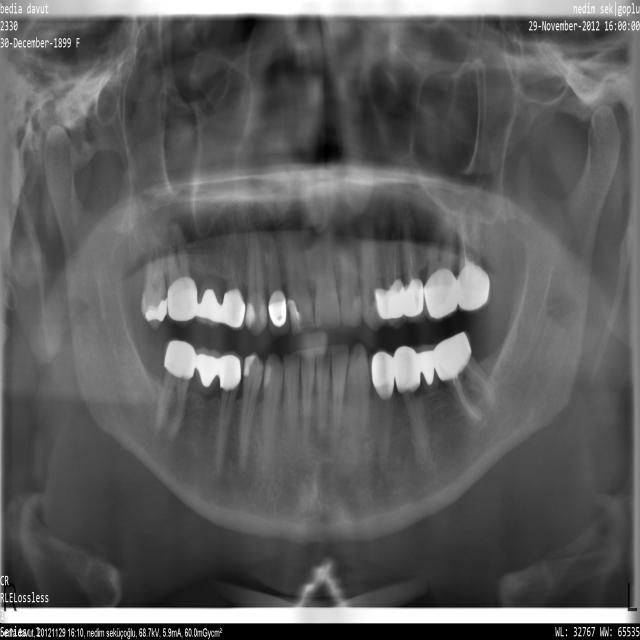Canine: (336, 345, 370, 475), (360, 220, 386, 329), (245, 214, 267, 337), (263, 354, 283, 467)
Incisores: (283, 229, 317, 332), (315, 230, 341, 327), (269, 235, 288, 336), (341, 235, 362, 326), (284, 350, 300, 458), (331, 345, 348, 432), (301, 348, 315, 450), (316, 346, 330, 442)
Premolars: (396, 348, 434, 464), (216, 352, 243, 474), (240, 351, 264, 477), (222, 216, 246, 331), (371, 351, 393, 470), (404, 205, 426, 323), (385, 222, 406, 328)
molars: (434, 331, 496, 423), (155, 339, 195, 441), (458, 197, 490, 311), (415, 345, 450, 442), (425, 214, 457, 320), (189, 348, 224, 440), (166, 217, 195, 328), (196, 225, 223, 327), (141, 236, 167, 330)
